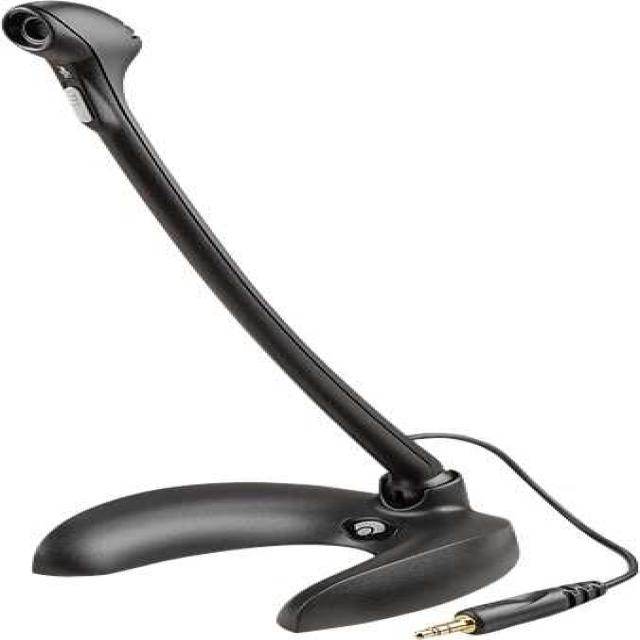microphone: (7, 0, 143, 125)
